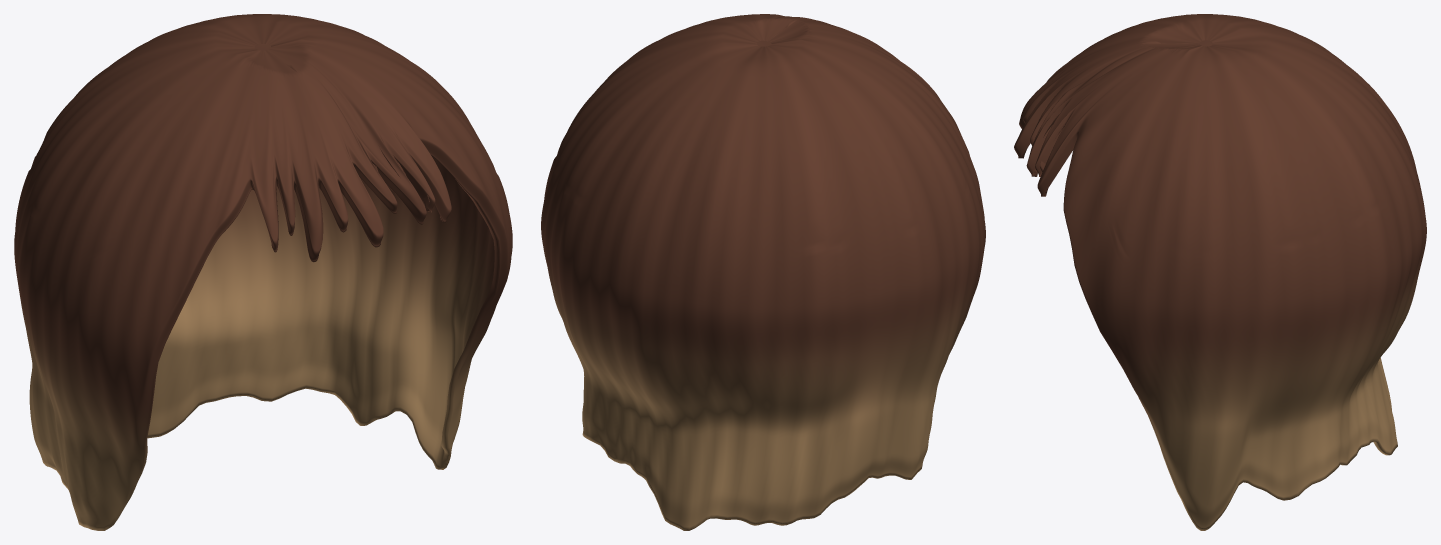
Rendered from side-sweep-cowboy-ombre.glb.
3 views of the same model, side by side, from view 1: azimuth 30°, elevation 25°; view 2: azimuth 150°, elevation 25°; view 3: azimuth 270°, elevation 25° (orthographic). The views are drawn at different scales.
Parts seen in each view (by area): view 1: Hair / layered lob; view 2: Hair / layered lob; view 3: Hair / layered lob.
Boxes of the visible parts, <box> form: Hair / layered lob: <box>14,14,512,530</box>; Hair / layered lob: <box>541,14,985,530</box>; Hair / layered lob: <box>1014,14,1426,530</box>.
Size of the model in its own units: 0.8388 by 0.8737 by 0.782.
